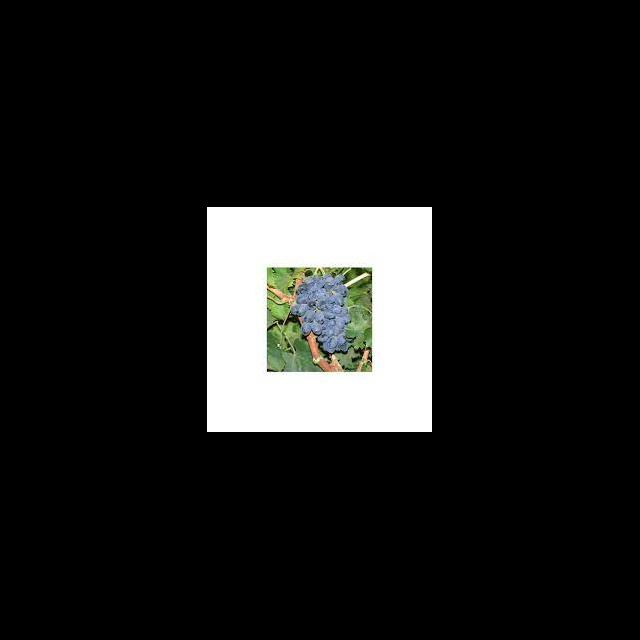grape: (290, 274, 352, 354)
